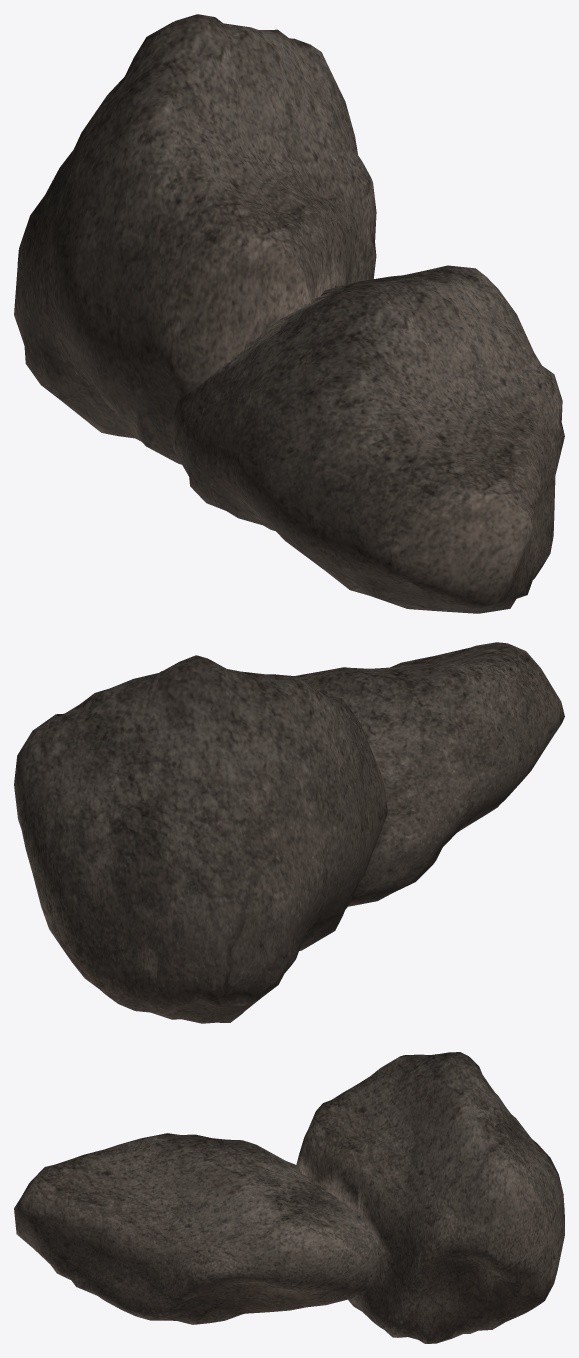
The model's file is mm6_deco_rock09.glb.
3 renders of one model, top to bottom at view 1: azimuth 30°, elevation 25°; view 2: azimuth 150°, elevation 25°; view 3: azimuth 270°, elevation 25°, orthographic. The views are drawn at different scales.
Visible parts, largest first — view 1: Rock09; view 2: Rock09; view 3: Rock09.
Boxes of the visible parts, x1,y1,x2,y2 form: Rock09: (14, 14, 564, 613); Rock09: (14, 642, 564, 1023); Rock09: (14, 1052, 564, 1343).
Size of the model in its own units: 0.7972 by 0.9553 by 1.8.
Materials: 1 (1 with a texture image).
